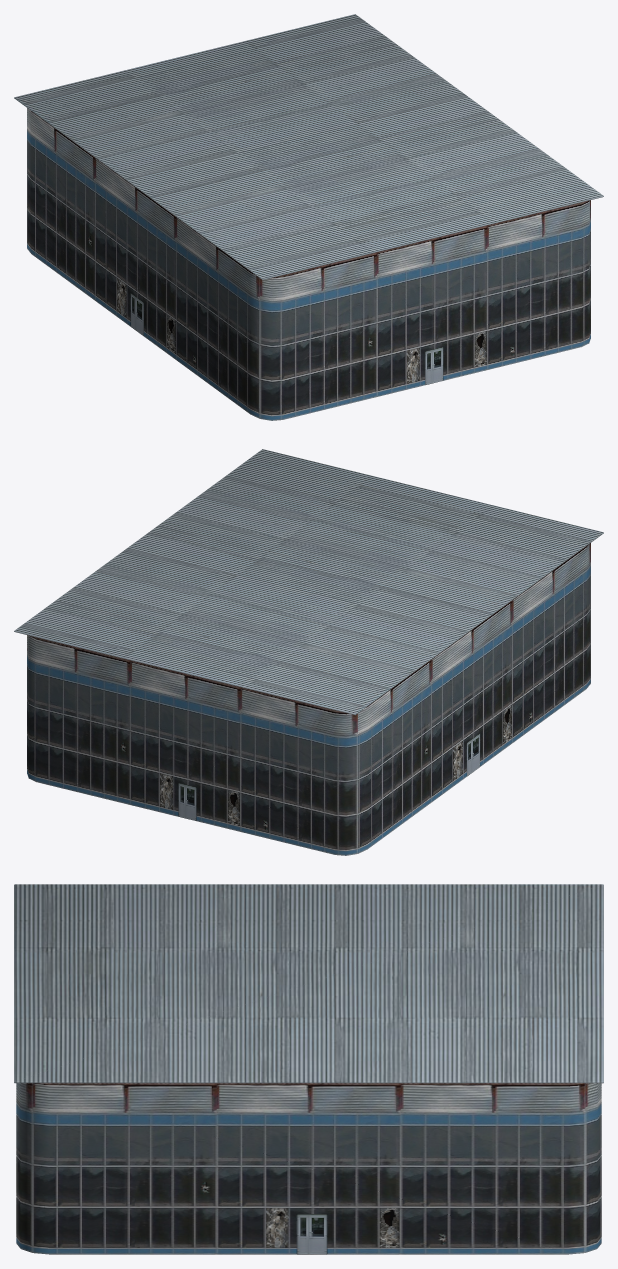
Rendered from r402_omsk_nedostroy.FBX.
3 views of the same model, one above another, from view 1: azimuth 30°, elevation 25°; view 2: azimuth 150°, elevation 25°; view 3: azimuth 270°, elevation 25° (orthographic). The views are drawn at different scales.
Parts seen in each view (by area): view 1: r402_omsk_nedostroy; view 2: r402_omsk_nedostroy; view 3: r402_omsk_nedostroy.
Part boxes in pixels (left/top/right/bottom): r402_omsk_nedostroy: left=14, top=14, right=603, bottom=420; r402_omsk_nedostroy: left=14, top=449, right=603, bottom=855; r402_omsk_nedostroy: left=14, top=884, right=603, bottom=1254.
Size of the model in its own units: 2245 by 2831 by 921.
